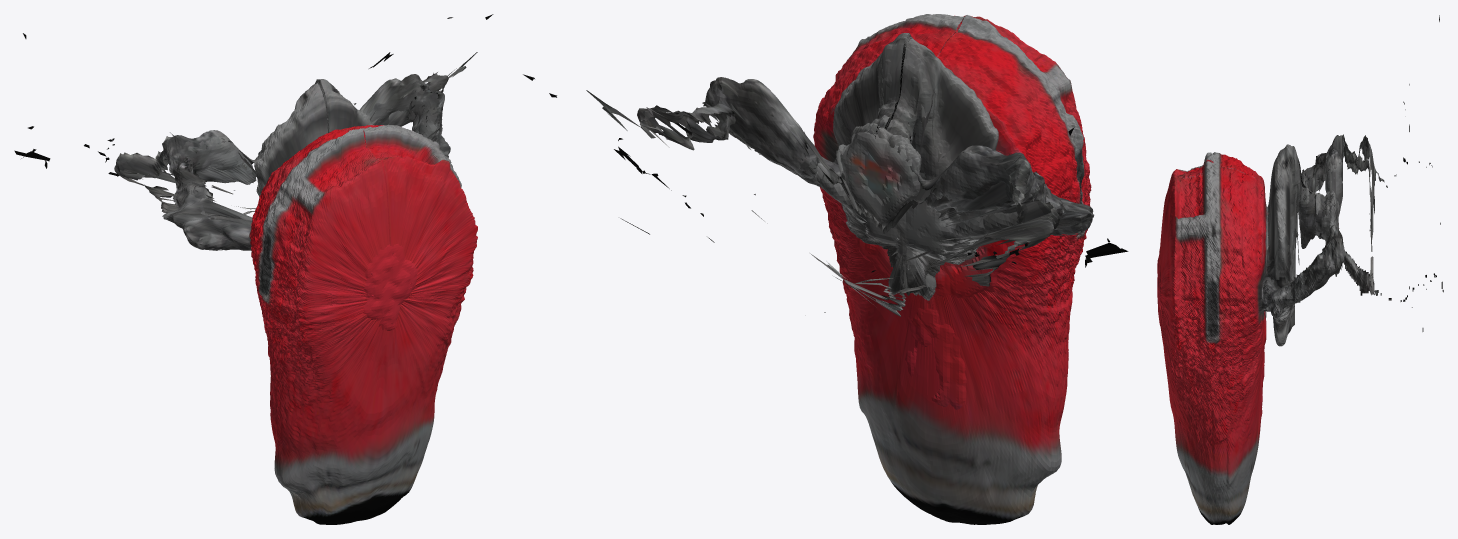
Rendered from mesh_inpaint.glb.
3 views of the same model, side by side, from view 1: azimuth 30°, elevation 25°; view 2: azimuth 150°, elevation 25°; view 3: azimuth 270°, elevation 25° (orthographic). The views are drawn at different scales.
Visible parts, largest first — view 1: ipn, fill; view 2: ipn, fill; view 3: ipn, fill.
Boxes of the visible parts, x1,y1,x2,y2 form: ipn: (14,14,493,524); fill: (169,79,444,330); ipn: (523,14,1128,524); fill: (711,59,1087,409); ipn: (1159,15,1443,524); fill: (1157,139,1344,416).
Bounding box in the file's own units: 1.62 × 1.46 × 0.9209.
2 materials, 1 textured.
